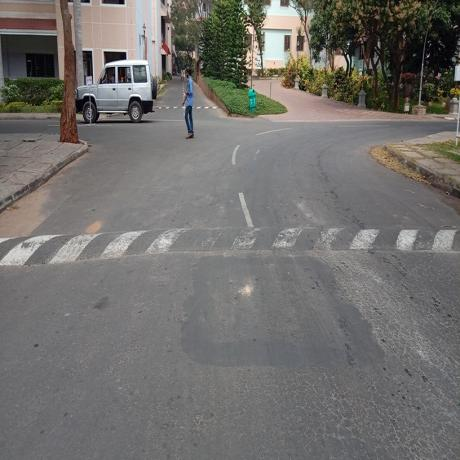Speed Bump: (0, 224, 459, 266)
